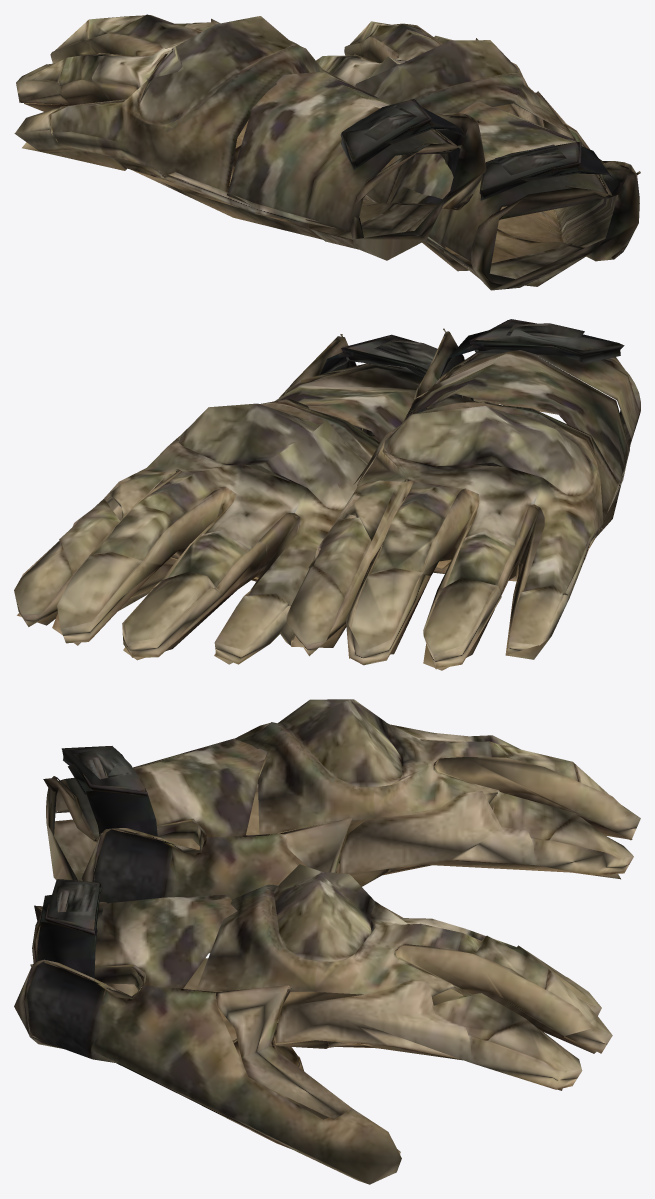
Rendered from tactical_gloves_lod1.glb.
3 views of the same model, one above another, from view 1: azimuth 30°, elevation 25°; view 2: azimuth 150°, elevation 25°; view 3: azimuth 270°, elevation 25° (orthographic). The views are drawn at different scales.
Parts seen in each view (by area): view 1: tactical_gloves; view 2: tactical_gloves; view 3: tactical_gloves.
Boxes of the visible parts, box(x1,y1,x2,y2) form: tactical_gloves: box(14, 14, 640, 290); tactical_gloves: box(14, 319, 640, 670); tactical_gloves: box(14, 699, 640, 1184).
Size of the model in its own units: 0.2377 by 0.1291 by 0.2462.
Materials: 1 (1 with a texture image).
